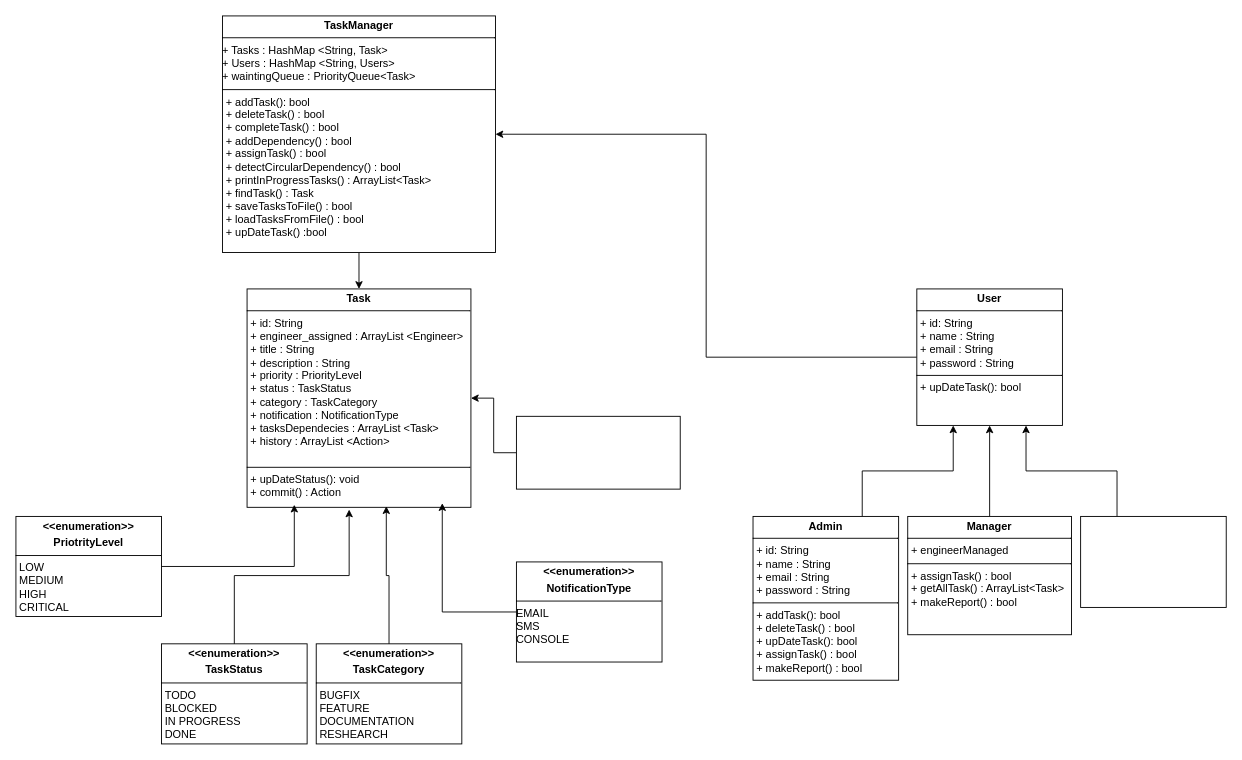
This 1242x760 diagram has some shape labels left out. Here are the shapes that lost their labels. From the top down, the box of each, then its label:
(516, 415, 680, 489): Action + id: String + message : String + Timestamp : Timestamp
(1080, 516, 1226, 607): Engineer + referent : int + completeTask() : bool + upDateTask() : bool
